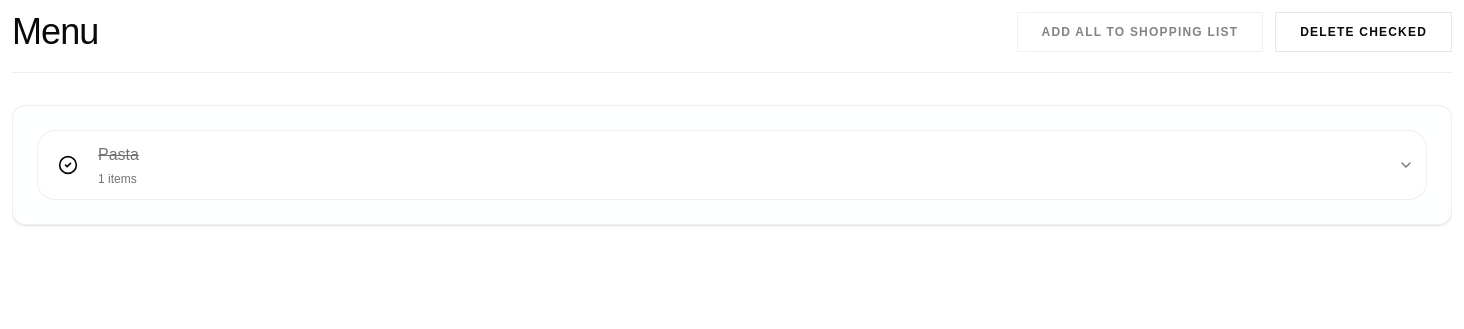
MenuPage › rolls checked menu rows back when deletion fails
Click the button "Delete checked". click: (1364, 32)
box: top-left (1275, 12), bottom-right (1452, 52)
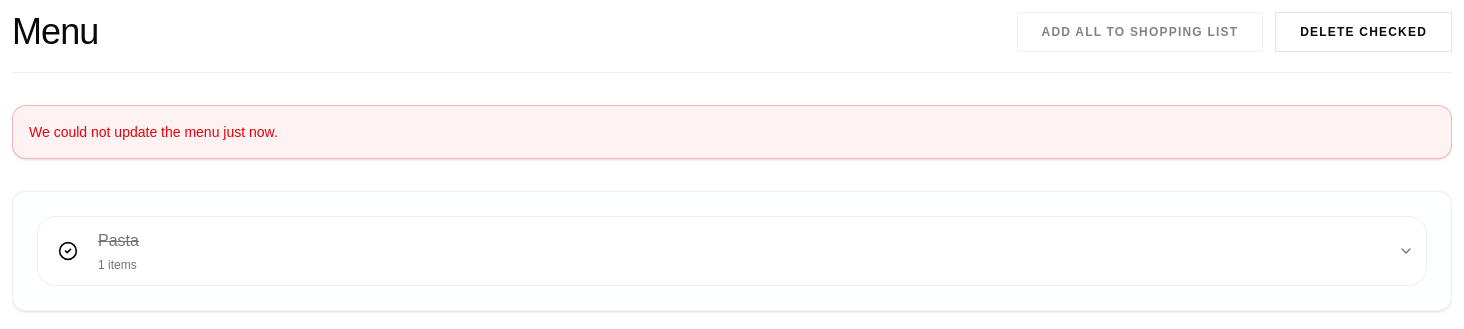
Expected: the text "Pasta" is shown, top-left (98, 232), bottom-right (139, 249)
Result: the text "We could not update the menu just now." is shown at top-left (29, 124), bottom-right (278, 140)
